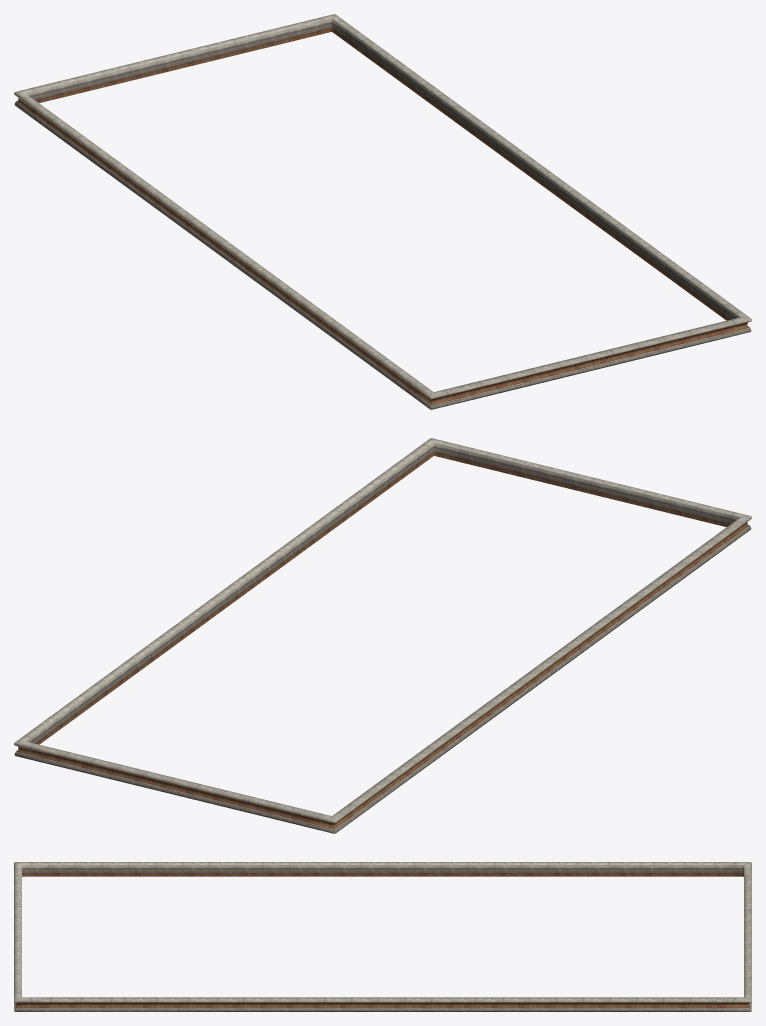
File: round.fbx
3 renders of one model, top to bottom at view 1: azimuth 30°, elevation 25°; view 2: azimuth 150°, elevation 25°; view 3: azimuth 270°, elevation 25°, orthographic. The views are drawn at different scales.
Parts seen in each view (by area): view 1: SM_MERGED_StaticMeshActor_8180_HSH; view 2: SM_MERGED_StaticMeshActor_8180_HSH; view 3: SM_MERGED_StaticMeshActor_8180_HSH.
Boxes of the visible parts, x1,y1,x2,y2 form: SM_MERGED_StaticMeshActor_8180_HSH: [14, 14, 751, 409]; SM_MERGED_StaticMeshActor_8180_HSH: [14, 438, 751, 833]; SM_MERGED_StaticMeshActor_8180_HSH: [14, 862, 751, 1011].
Bounding box in the file's own units: 3.05 × 0.1201 × 6.85.
1 material, 1 textured.
